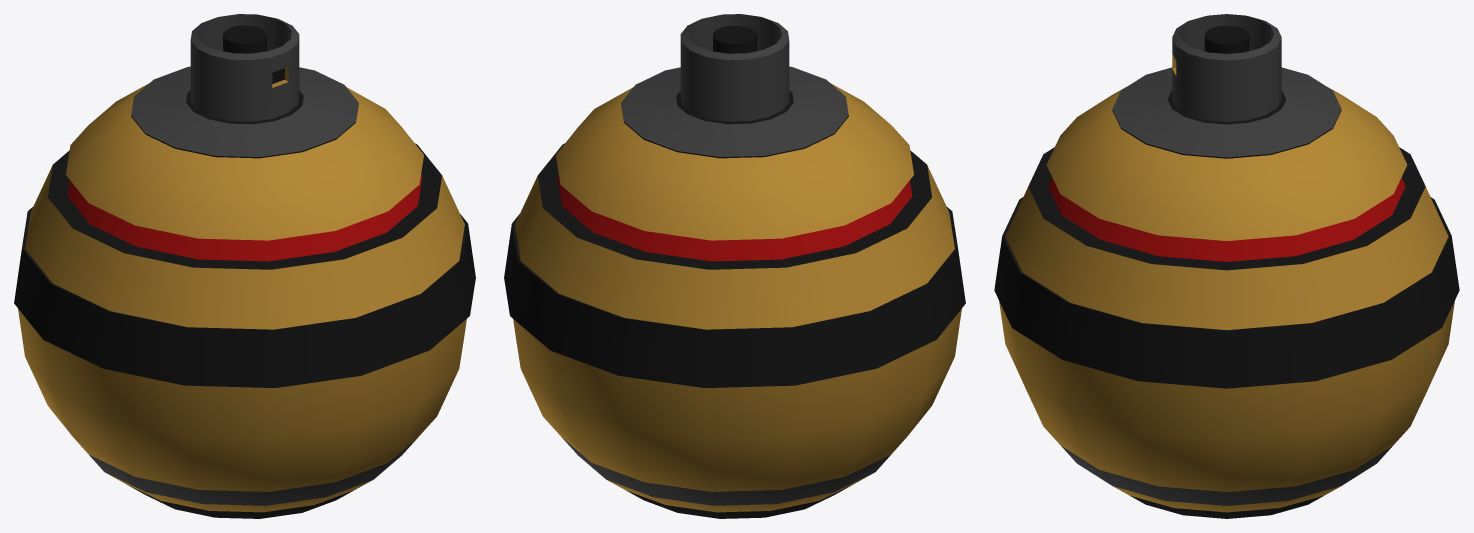
3 renders of one model, left to right at view 1: azimuth 30°, elevation 25°; view 2: azimuth 150°, elevation 25°; view 3: azimuth 270°, elevation 25°, orthographic.
Parts seen in each view (by area): view 1: Grenade; view 2: Grenade; view 3: Grenade.
Boxes of the visible parts, x1,y1,x2,y2 form: Grenade: (14, 14, 475, 518); Grenade: (504, 14, 965, 518); Grenade: (994, 14, 1459, 518).
Bounding box in the file's own units: 203 × 223 × 203.
